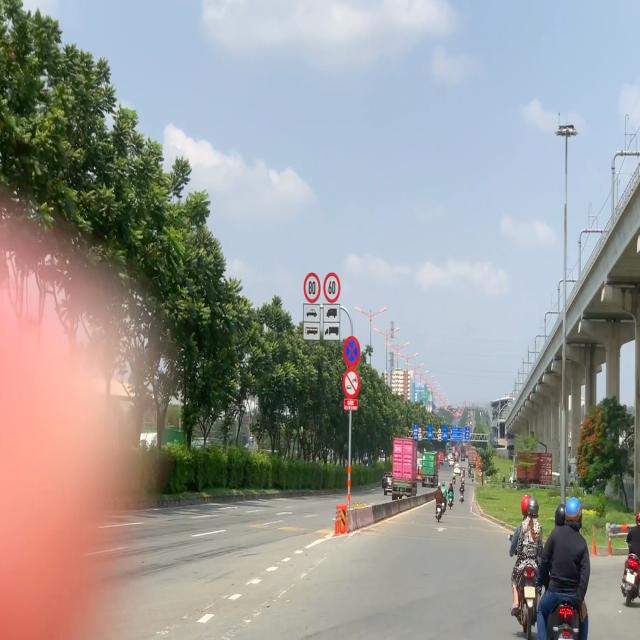Cam con lai: (344, 369, 361, 399)
Cam dung va do: (342, 336, 361, 368)
Toc do toi da: (323, 272, 343, 302), (303, 272, 321, 302)
